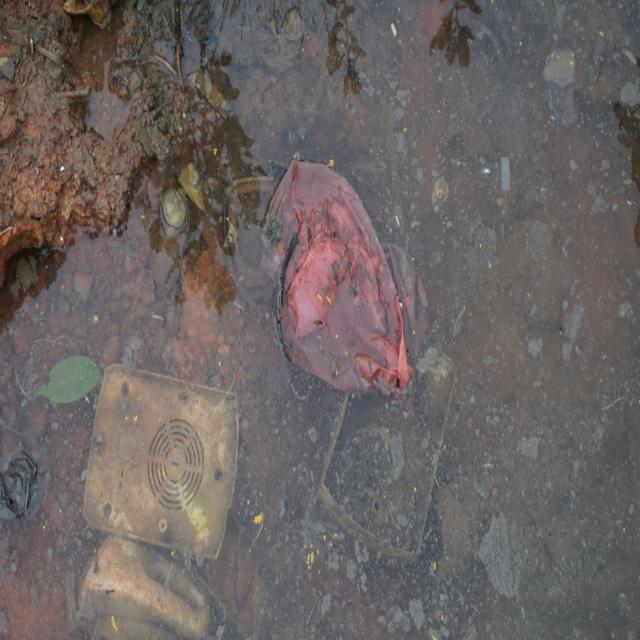Kantong Plastik: (261, 146, 419, 410)
